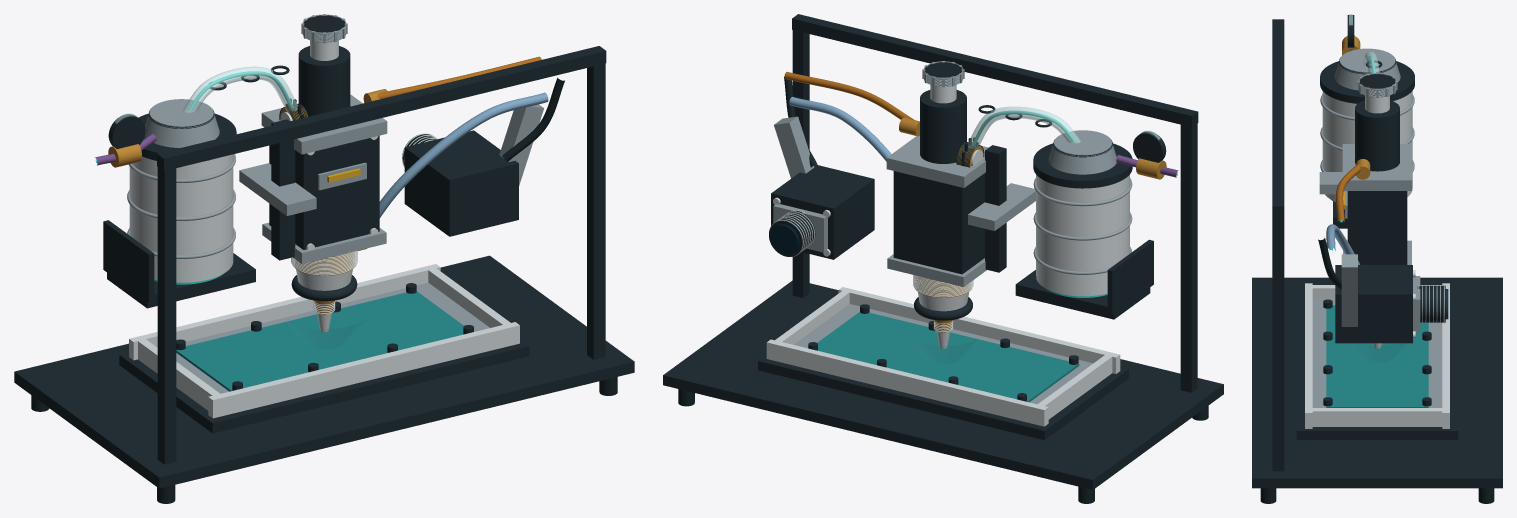
File: generic-fluid-dispenser.glb
3 renders of one model, left to right at view 1: azimuth 30°, elevation 25°; view 2: azimuth 150°, elevation 25°; view 3: azimuth 270°, elevation 25°, orthographic. The views are drawn at different scales.
Parts seen in each view (by area): view 1: base-plate, sample-surface, upright (×2), fixture-rail (×2), camera-body, cross-rail, pressure-vessel, valve-housing, carrier-base, end-stop (×2), solenoid-coil, cap-collar (+17 smaller); view 2: base-plate, sample-surface, fixture-rail (×2), pressure-vessel, valve-housing, upright (×2), cross-rail, carrier-base, camera-body, end-stop (×2), solenoid-coil, cap-collar (+19 smaller); view 3: base-plate, sample-surface, camera-body, carrier-base, valve-housing, upright, end-stop (×2), carrier-deck, solenoid-coil, pressure-vessel, cross-rail, fixture-rail (×2) (+12 smaller).
Boxes of the visible parts, x1,y1,x2,y2 form: base-plate: (14, 255, 634, 488); sample-surface: (176, 291, 463, 391); upright (×2): (157, 54, 605, 464); fixture-rail (×2): (129, 264, 519, 418); camera-body: (404, 130, 518, 236); cross-rail: (157, 46, 606, 170); pressure-vessel: (129, 154, 233, 282); valve-housing: (269, 135, 379, 249); carrier-base: (119, 339, 529, 433); end-stop (×2): (138, 268, 515, 417); solenoid-coil: (298, 46, 350, 116); cap-collar: (145, 99, 219, 147); base-plate: (663, 280, 1223, 489); sample-surface: (817, 312, 1079, 402); fixture-rail (×2): (766, 287, 1120, 426); pressure-vessel: (1036, 174, 1129, 296); valve-housing: (893, 171, 984, 274); upright (×2): (792, 21, 1197, 392); cross-rail: (792, 14, 1198, 127); carrier-base: (758, 355, 1128, 440); camera-body: (771, 164, 874, 259); end-stop (×2): (770, 289, 1115, 425); solenoid-coil: (920, 90, 966, 163); cap-collar: (1048, 130, 1116, 174); base-plate: (1252, 277, 1502, 488); sample-surface: (1326, 305, 1428, 407); camera-body: (1335, 265, 1412, 343); carrier-base: (1296, 297, 1458, 439); valve-housing: (1347, 191, 1407, 264); upright: (1272, 217, 1284, 471); end-stop (×2): (1305, 285, 1449, 426); carrier-deck: (1312, 299, 1442, 407); solenoid-coil: (1355, 100, 1399, 171); pressure-vessel: (1322, 91, 1412, 201); cross-rail: (1272, 19, 1284, 217); fixture-rail (×2): (1305, 283, 1449, 428).
Size of the model in its own units: 7.3 by 5.45 by 3.8.
